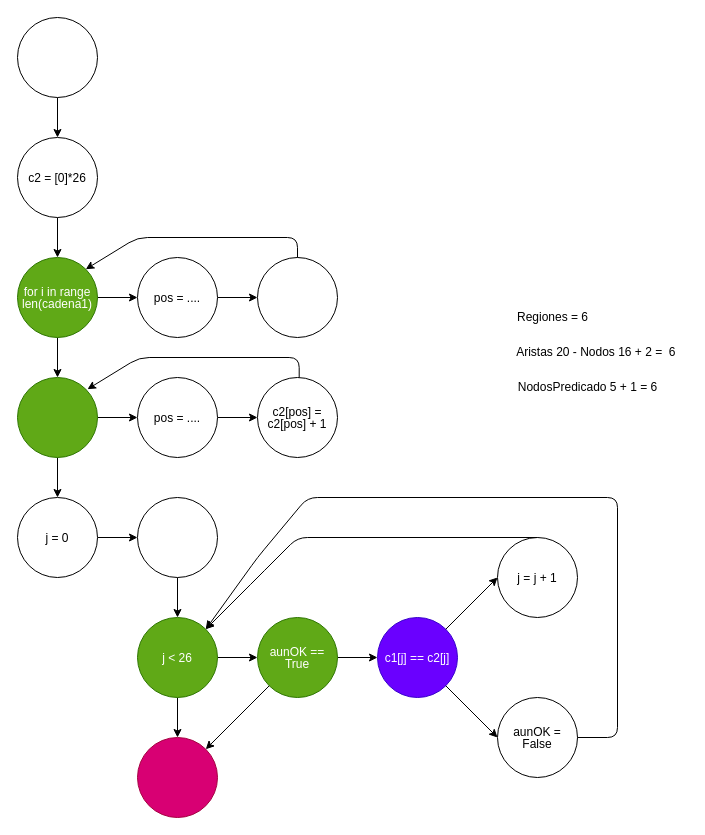
Image size: 705x835. Some labels were removed from this diagram. The centre of each missing label's shape, as x and y in pixels:
"aunOK = True" belongs at point (177, 537).
"c1 = [0]*26" belongs at point (57, 57).
"c1[pos] = c1[pos] + 1" belongs at point (297, 297).
"for i in range len(cadena2)" belongs at point (57, 417).
"return aunOK" belongs at point (177, 777).
